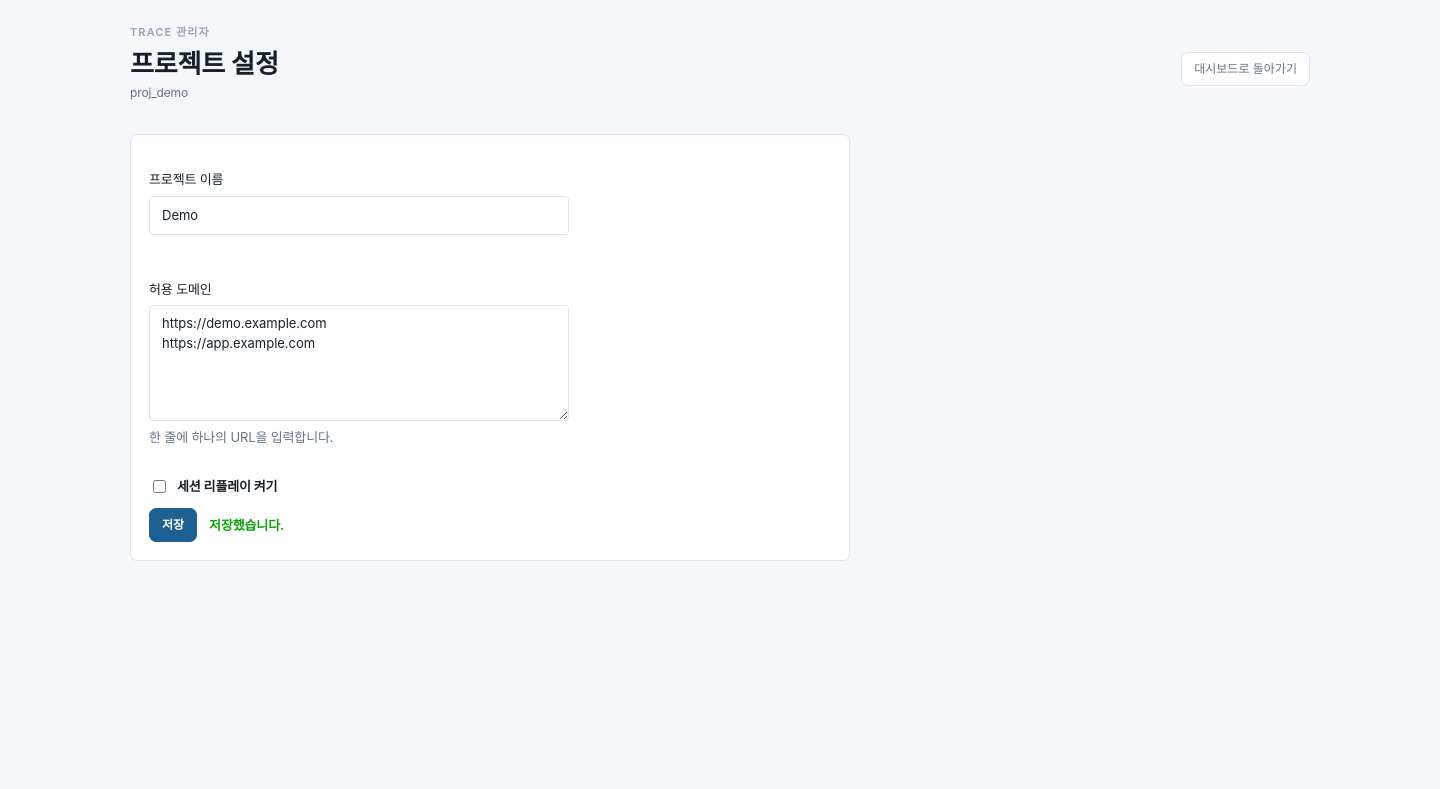
Scenario: ProjectSettingsPage › 리플레이를 켜면 이전 저장 성공 메시지를 숨긴다
What coordinates should you click on to do the following:
click the checkbox labelled "세션 리플레이 켜기"
I would click on:
 (160, 486)
Its box is [153,480,166,492].
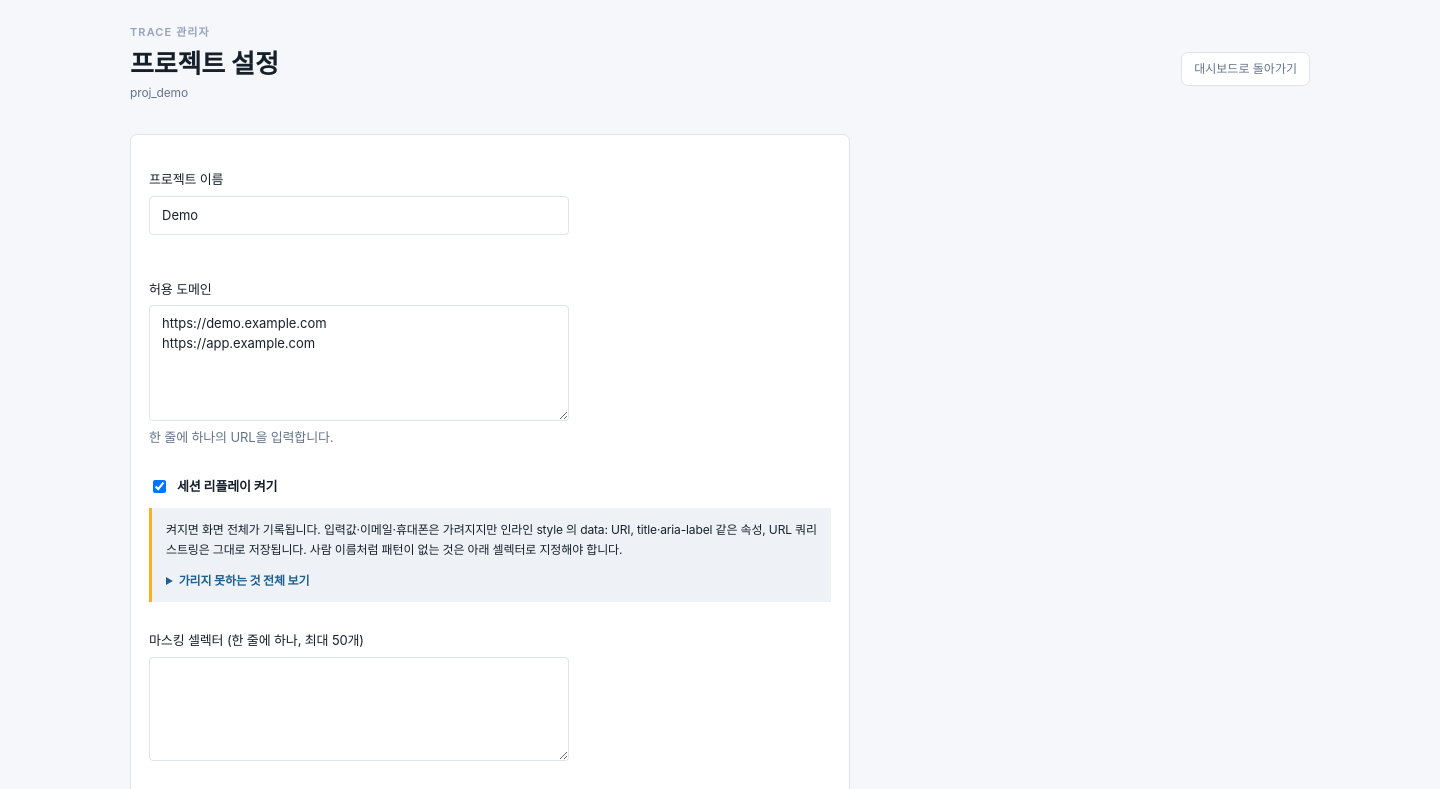
Check: the text "저장했습니다." is gone
